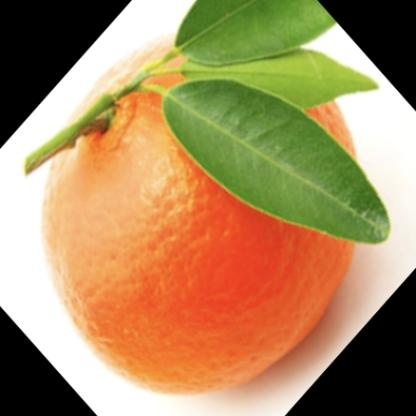fresh: (22, 29, 364, 393)
